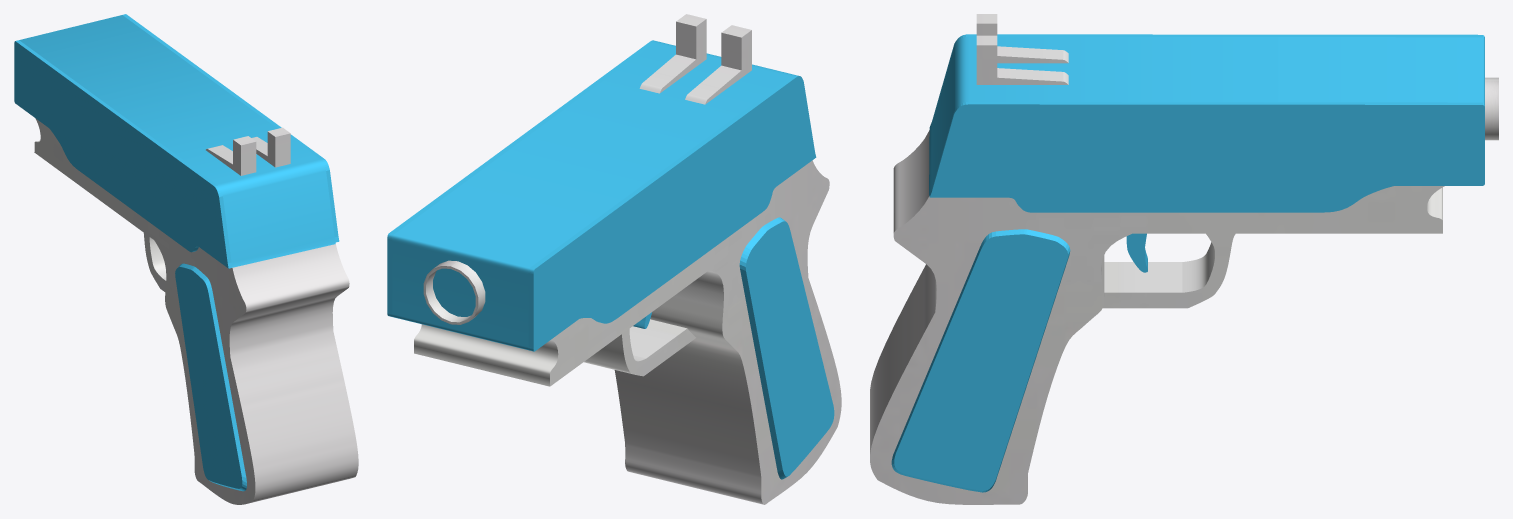
The model's file is Gun2.FBX.
The picture shows the model from 3 angles, left to right: view 1: azimuth 30°, elevation 25°; view 2: azimuth 150°, elevation 25°; view 3: azimuth 270°, elevation 25°; orthographic projection. The views are drawn at different scales.
Visible parts, largest first — view 1: Body; view 2: Body, Barrel; view 3: Body, Barrel.
Part boxes in pixels (x1,y1,x2,y2): Body: [14, 14, 358, 504]; Body: [387, 14, 841, 504]; Barrel: [423, 260, 485, 324]; Body: [870, 14, 1484, 504]; Barrel: [1485, 77, 1498, 140].
Bounding box in the file's own units: 2.28 × 6.72 × 8.66.
Materials: 1 (1 with a texture image).
